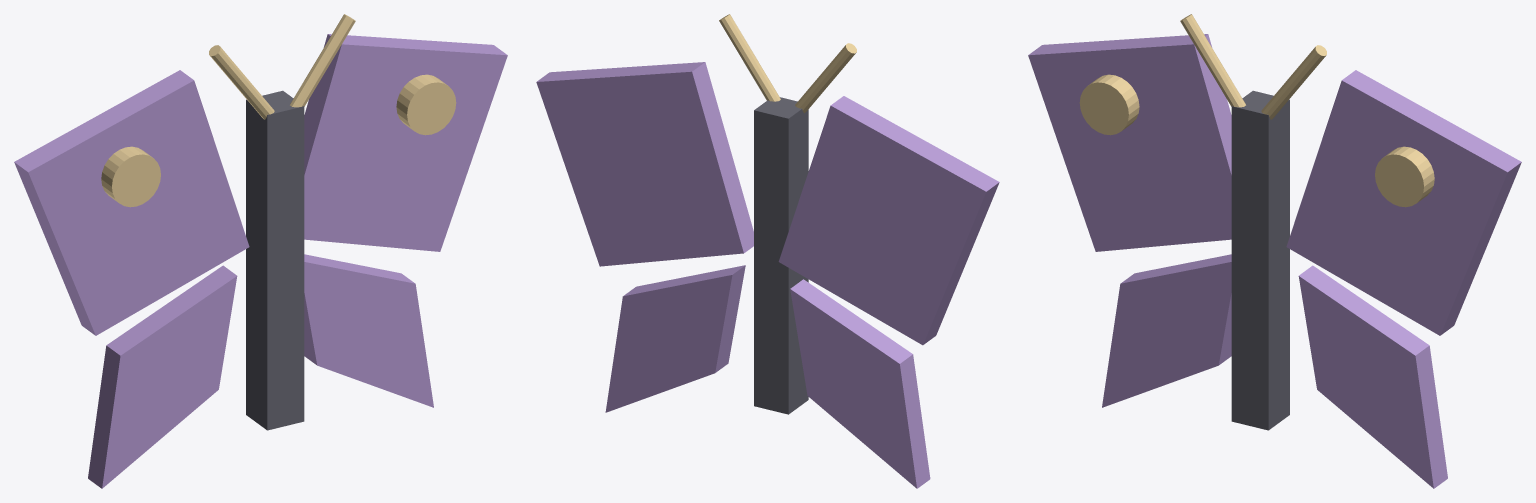
File: ACC_Butterfly_Pin.glb
3 views of the same model, side by side, from view 1: azimuth 30°, elevation 25°; view 2: azimuth 150°, elevation 25°; view 3: azimuth 330°, elevation 25° (orthographic). The views are drawn at different scales.
Parts seen in each view (by area): view 1: ACC_Butterfly_Pin_1, ACC_Butterfly_Pin_4, ACC_Butterfly_Pin_7, ACC_Butterfly_Pin_2, ACC_Butterfly_Pin_5, ACC_Butterfly_Pin_3, ACC_Butterfly_Pin_6, ACC_Butterfly_Pin_9, ACC_Butterfly_Pin_8; view 2: ACC_Butterfly_Pin_4, ACC_Butterfly_Pin_1, ACC_Butterfly_Pin_2, ACC_Butterfly_Pin_7, ACC_Butterfly_Pin_5, ACC_Butterfly_Pin_9, ACC_Butterfly_Pin_8; view 3: ACC_Butterfly_Pin_4, ACC_Butterfly_Pin_1, ACC_Butterfly_Pin_7, ACC_Butterfly_Pin_5, ACC_Butterfly_Pin_2, ACC_Butterfly_Pin_6, ACC_Butterfly_Pin_3, ACC_Butterfly_Pin_8, ACC_Butterfly_Pin_9.
Part boxes in pixels (bbox=[...]): ACC_Butterfly_Pin_1: bbox=[14, 70, 249, 335]; ACC_Butterfly_Pin_4: bbox=[304, 34, 507, 251]; ACC_Butterfly_Pin_7: bbox=[246, 90, 304, 430]; ACC_Butterfly_Pin_2: bbox=[88, 265, 237, 488]; ACC_Butterfly_Pin_5: bbox=[304, 254, 433, 407]; ACC_Butterfly_Pin_3: bbox=[101, 146, 160, 207]; ACC_Butterfly_Pin_6: bbox=[396, 74, 456, 135]; ACC_Butterfly_Pin_9: bbox=[290, 14, 355, 107]; ACC_Butterfly_Pin_8: bbox=[209, 45, 274, 119]; ACC_Butterfly_Pin_4: bbox=[536, 62, 753, 266]; ACC_Butterfly_Pin_1: bbox=[778, 96, 999, 345]; ACC_Butterfly_Pin_2: bbox=[790, 279, 930, 488]; ACC_Butterfly_Pin_7: bbox=[754, 97, 808, 414]; ACC_Butterfly_Pin_5: bbox=[605, 265, 745, 412]; ACC_Butterfly_Pin_9: bbox=[719, 14, 780, 101]; ACC_Butterfly_Pin_8: bbox=[795, 43, 856, 113]; ACC_Butterfly_Pin_4: bbox=[1286, 70, 1521, 335]; ACC_Butterfly_Pin_1: bbox=[1028, 34, 1231, 251]; ACC_Butterfly_Pin_7: bbox=[1231, 90, 1289, 430]; ACC_Butterfly_Pin_5: bbox=[1298, 265, 1447, 488]; ACC_Butterfly_Pin_2: bbox=[1102, 254, 1231, 407]; ACC_Butterfly_Pin_6: bbox=[1375, 146, 1434, 207]; ACC_Butterfly_Pin_3: bbox=[1079, 74, 1139, 135]; ACC_Butterfly_Pin_8: bbox=[1180, 14, 1245, 107]; ACC_Butterfly_Pin_9: bbox=[1261, 45, 1326, 119].
Size of the model in its own units: 0.078 by 0.0666 by 0.009.
